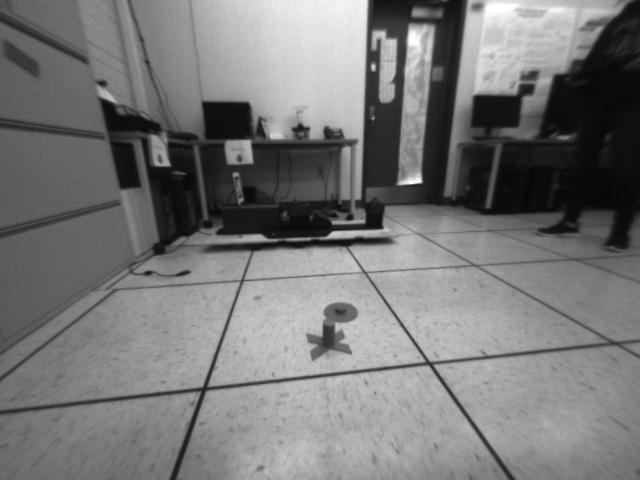X: (306, 319, 352, 362)
